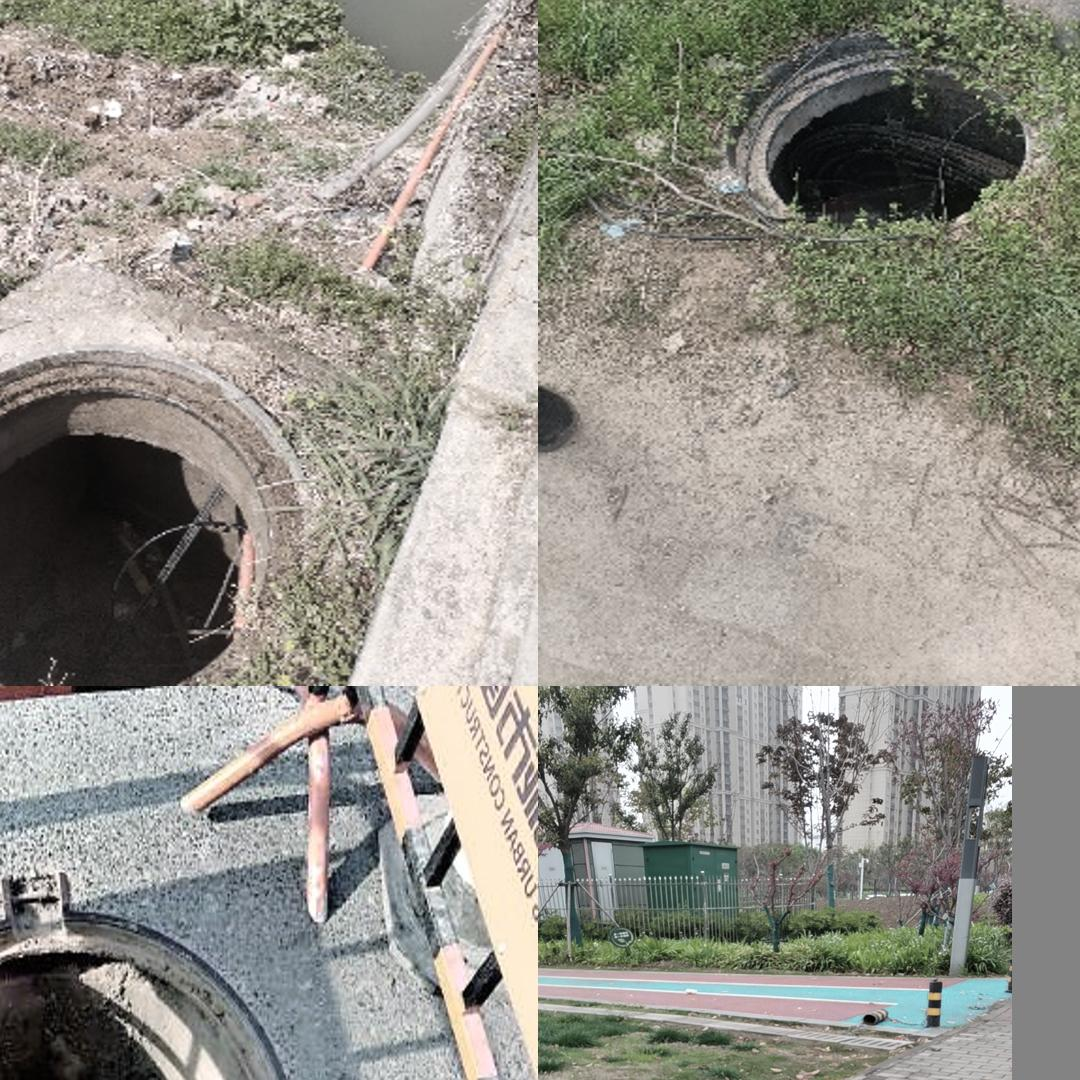lose: (0, 361, 340, 675), (728, 30, 1043, 242), (0, 903, 317, 1080)
